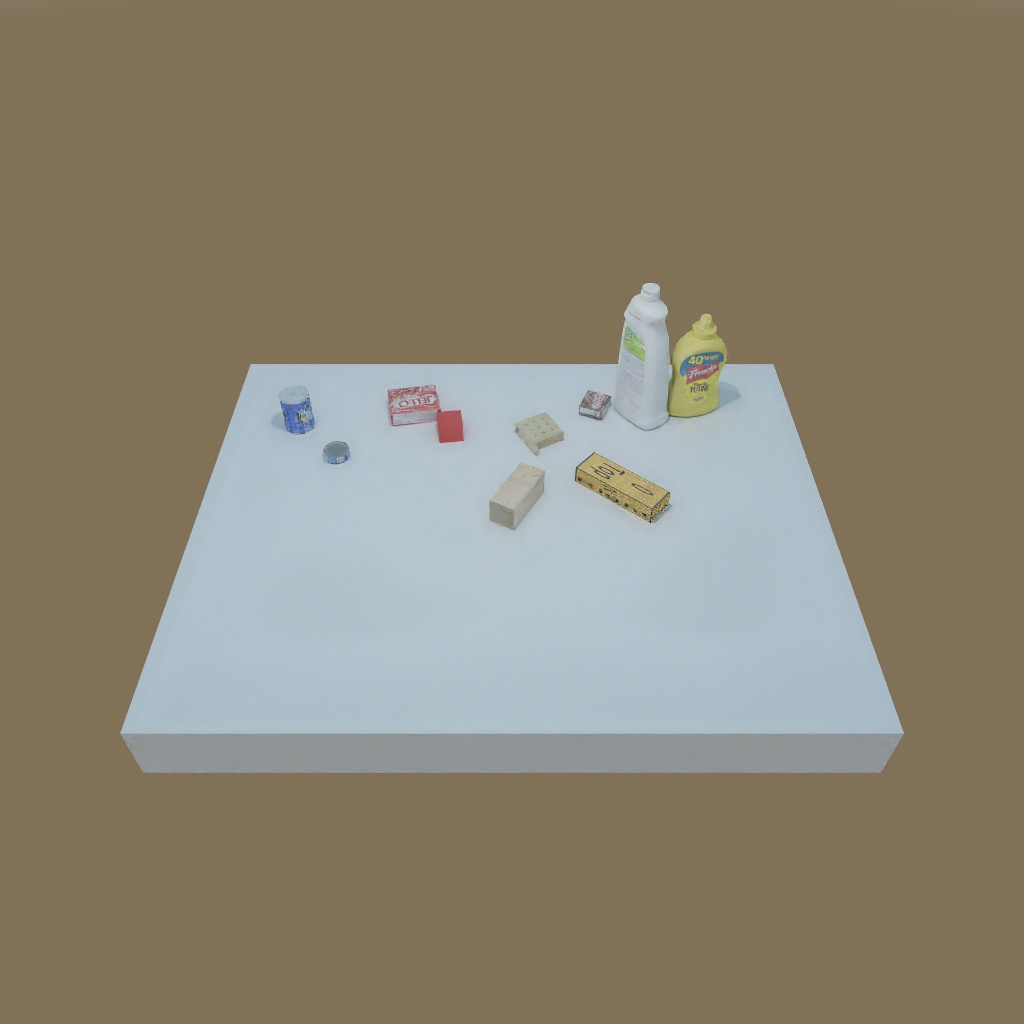gelatin_box: (383, 381, 443, 425)
jenga: (572, 454, 670, 523)
master_chef_can: (275, 380, 322, 435)
mustard_bottle: (671, 316, 725, 418)
nine_hole_peg_test: (508, 415, 567, 452)
pudding_box: (576, 389, 615, 421)
wood_block: (489, 460, 548, 530)
